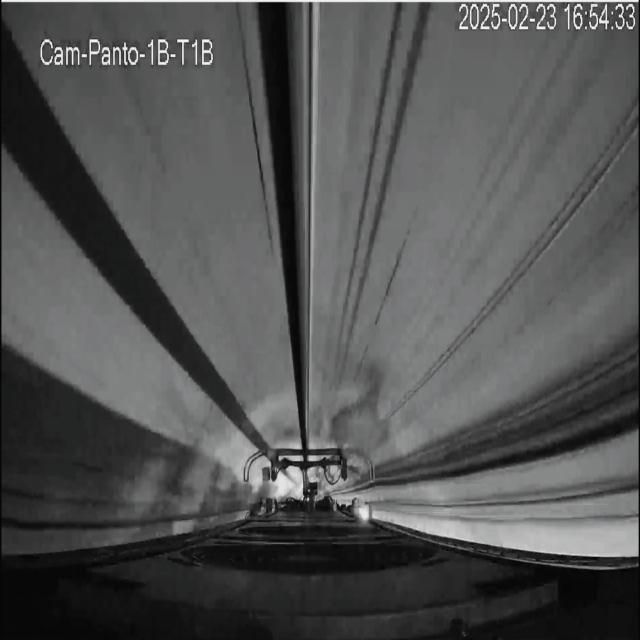Camera Stamp: (34, 28, 219, 70)
Date Stamp: (457, 3, 634, 33)
No - Spark: (204, 384, 370, 515)
